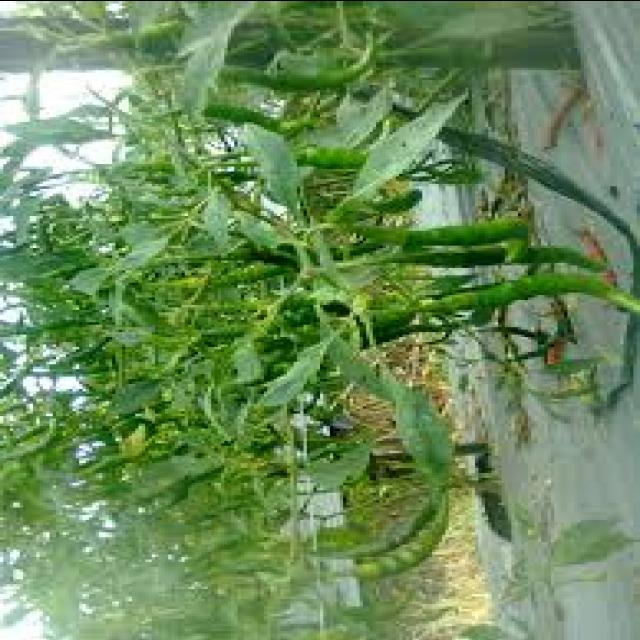sehat: (347, 86, 471, 202), (238, 120, 300, 198)
